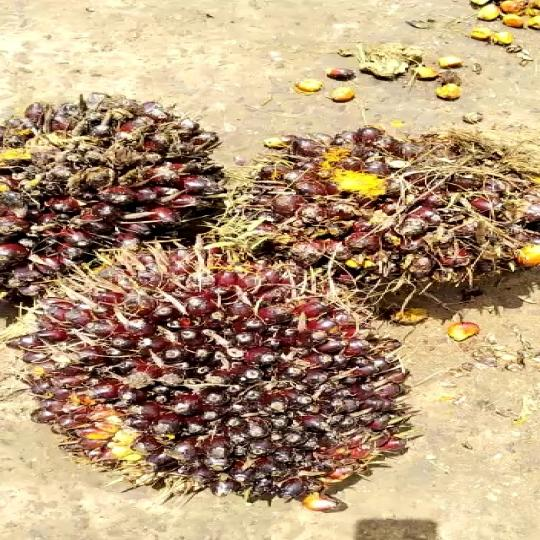kurang masak: (0, 228, 439, 535), (277, 100, 540, 305), (0, 100, 240, 308)
